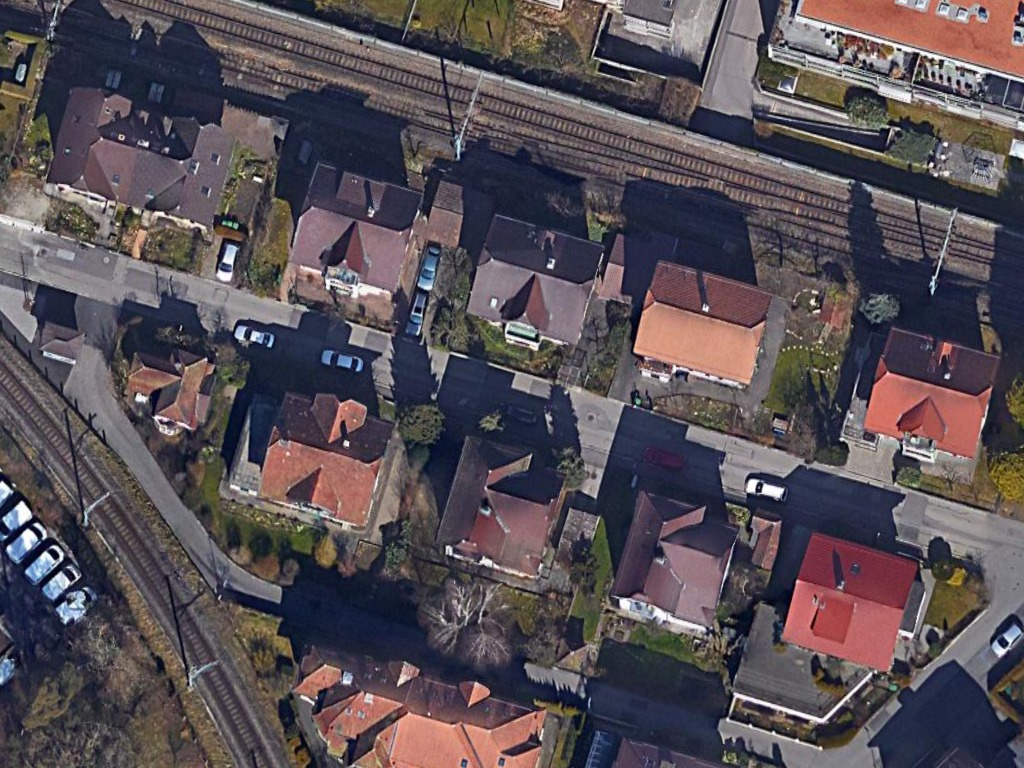car: (742, 472, 793, 507), (414, 239, 444, 296), (316, 344, 368, 376), (230, 319, 280, 352), (984, 619, 1024, 657), (213, 238, 244, 287)
van: (21, 537, 67, 590), (1, 517, 50, 565), (36, 558, 83, 604)
